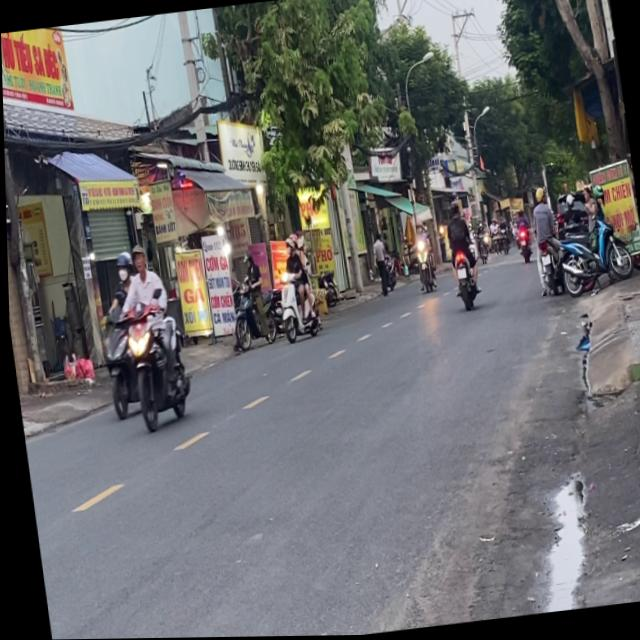helmet: (110, 248, 131, 284), (282, 231, 294, 252)
licenseplate: (108, 237, 193, 432), (85, 247, 143, 421), (267, 229, 320, 343)
motorcyclist: (126, 243, 146, 276)
